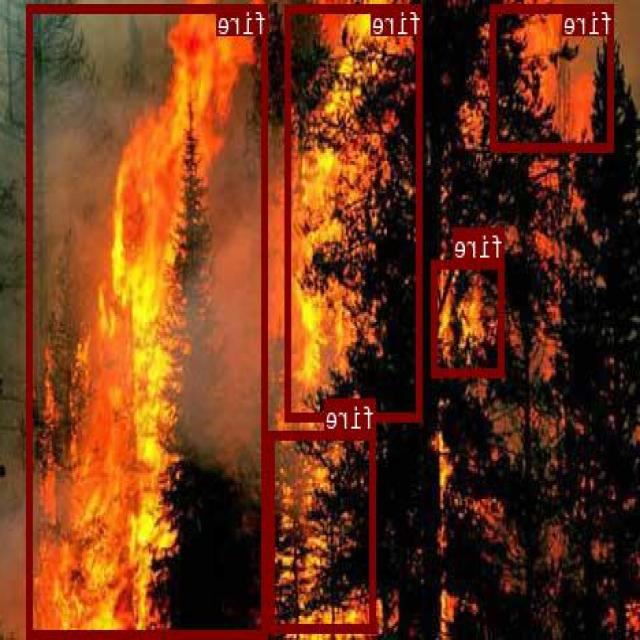fire: (28, 2, 268, 636), (286, 4, 424, 419), (270, 430, 377, 632), (492, 4, 615, 149), (433, 258, 506, 376)
